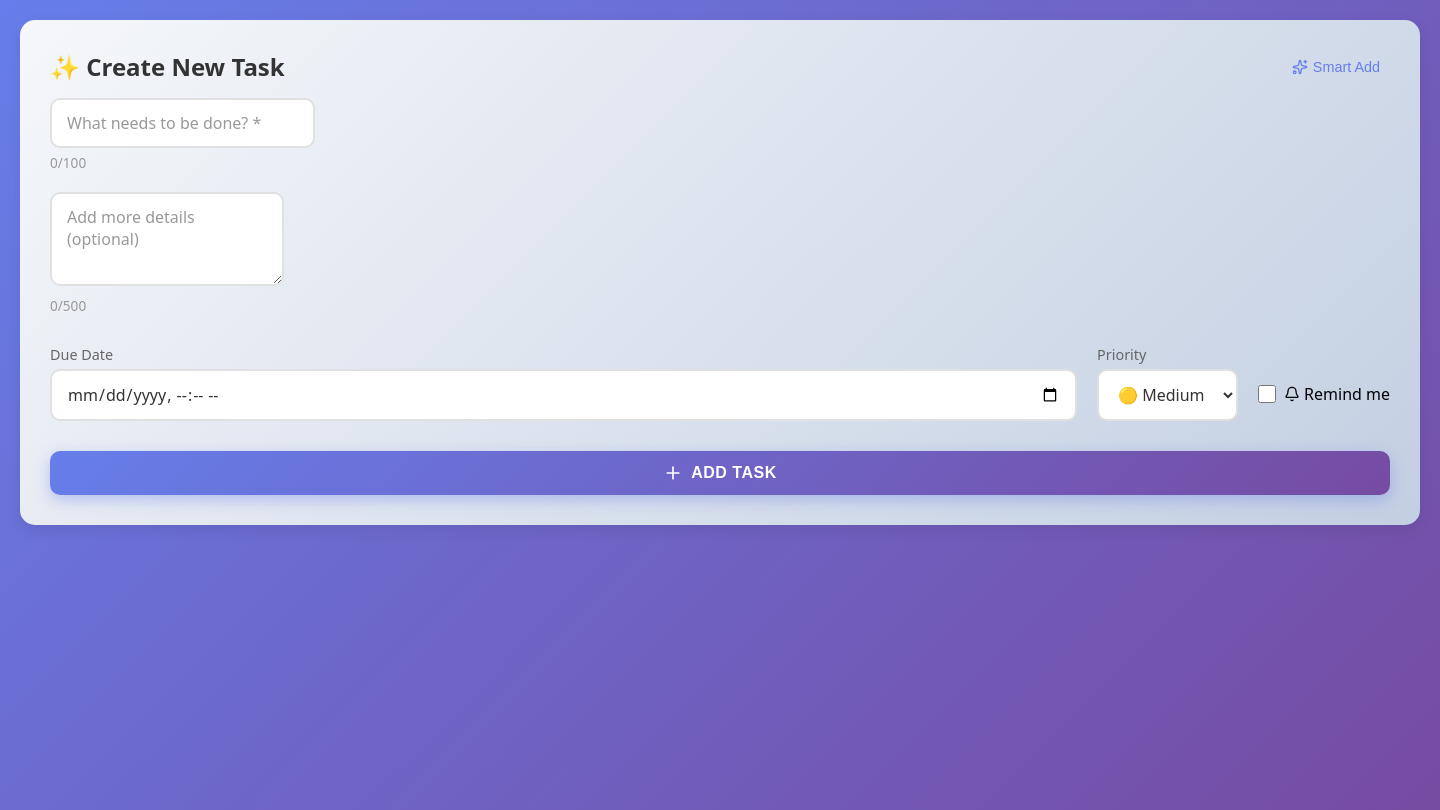
it: TaskForm Smart Add › parses date from smart input
The width and height of the screenshot is (1440, 810).
Click the button "Smart Add".
click(1336, 66)  # box top-left (1282, 54), bottom-right (1390, 80)
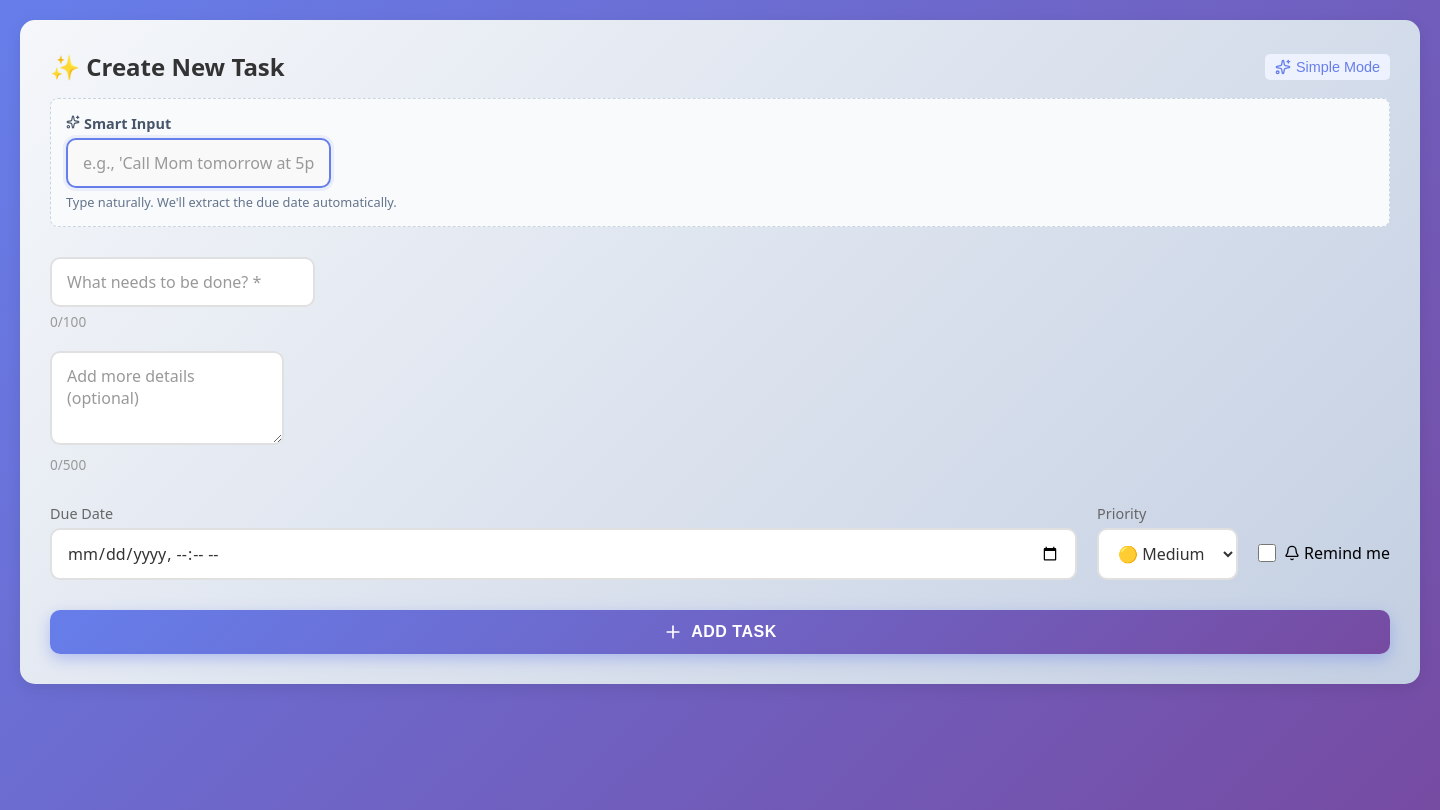
Type something with "tomorrow"
Type "Buy milk tomorrow" into the field with placeholder "e.g., 'Call Mom tomorrow at 5pm'".
click(198, 163); type("Buy milk tomorrow")  # box top-left (66, 138), bottom-right (331, 188)
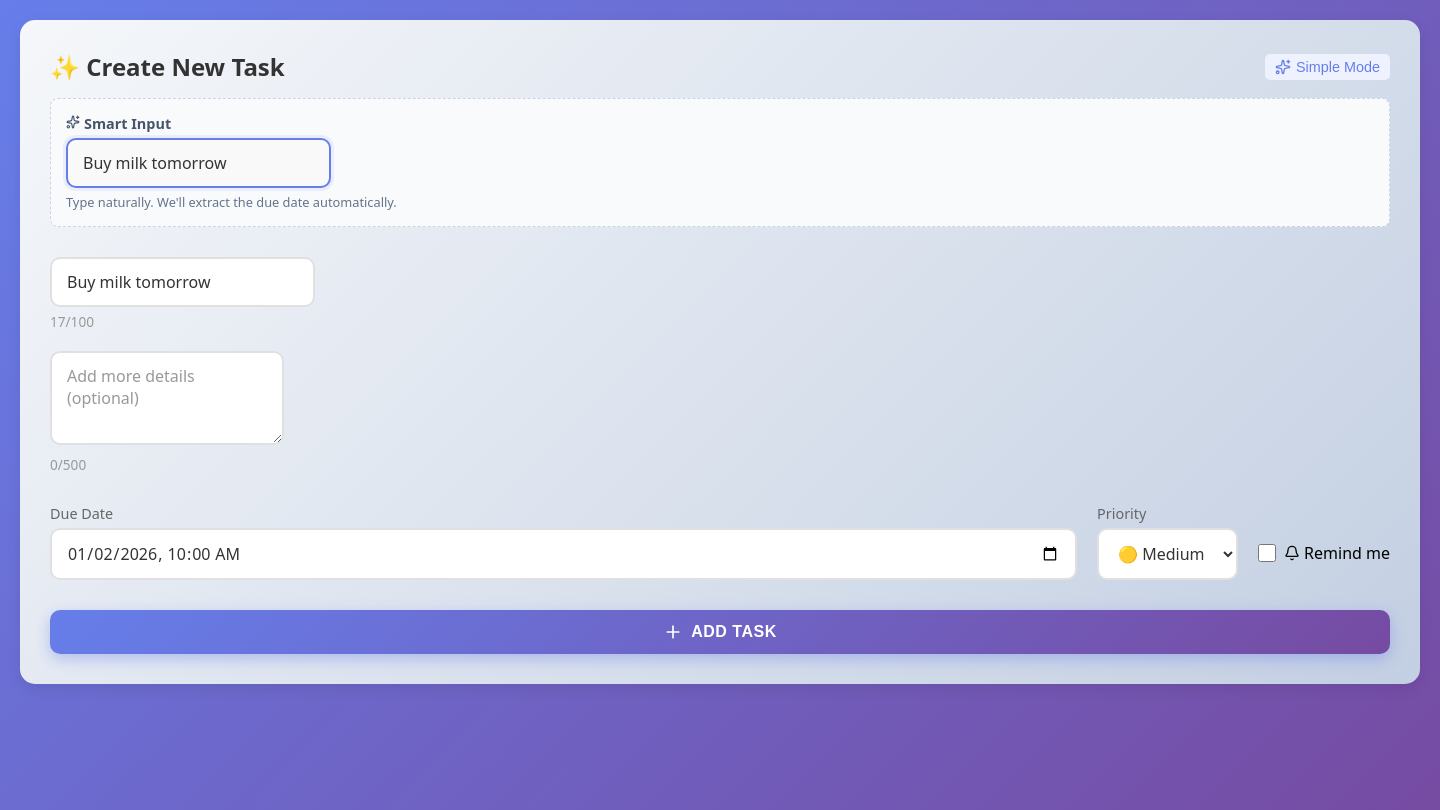
Result: the field with placeholder "What needs to be done? *" holds "Buy milk tomorrow" at top-left (50, 257), bottom-right (315, 307)
